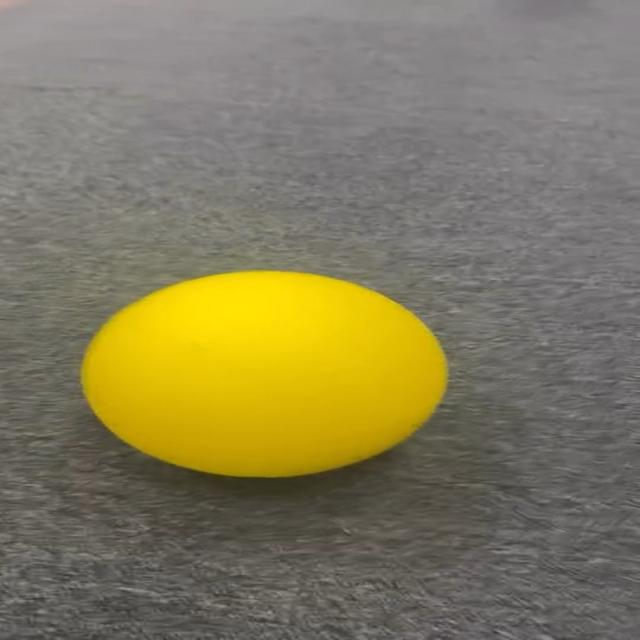Fuels: (81, 267, 444, 474)
